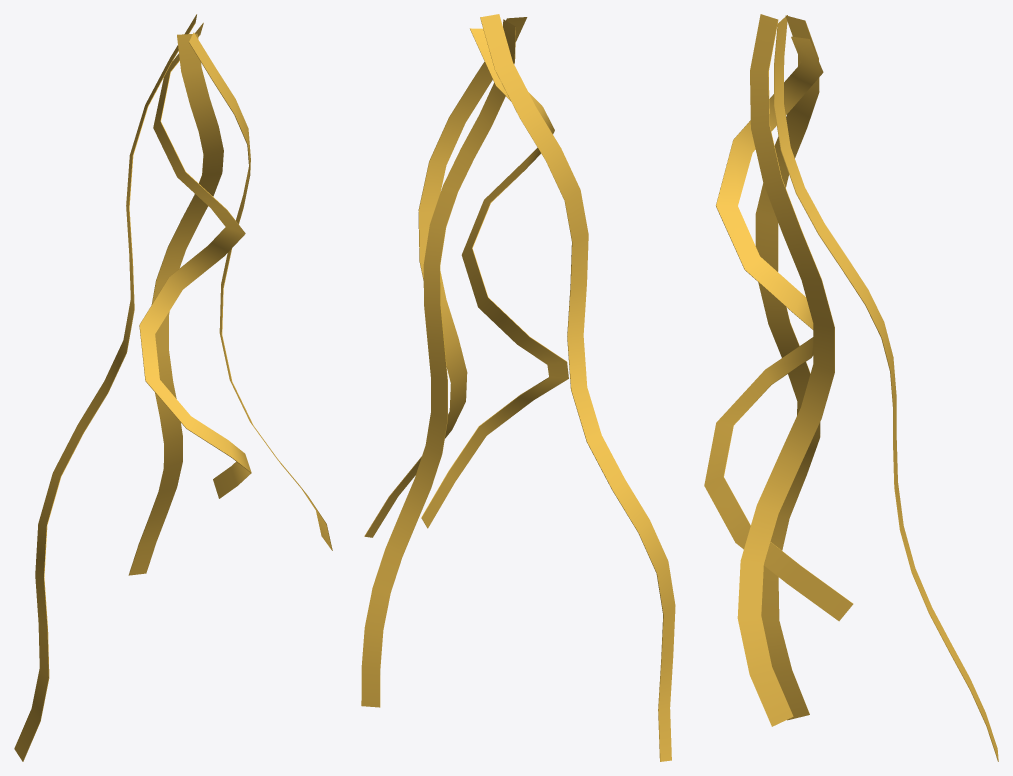
File: PartyBalloons02_Decor3.FBX
The picture shows the model from 3 angles, left to right: view 1: azimuth 30°, elevation 25°; view 2: azimuth 150°, elevation 25°; view 3: azimuth 270°, elevation 25°; orthographic projection. The views are drawn at different scales.
Visible parts, largest first — view 1: PartyBalloons02_Decor3; view 2: PartyBalloons02_Decor3; view 3: PartyBalloons02_Decor3.
Part boxes in pixels (x1=…): PartyBalloons02_Decor3: x1=14, y1=14, x2=332, y2=761; PartyBalloons02_Decor3: x1=361, y1=14, x2=675, y2=761; PartyBalloons02_Decor3: x1=704, y1=14, x2=998, y2=761.
Size of the model in its own units: 0.1137 by 0.2499 by 0.0832.
